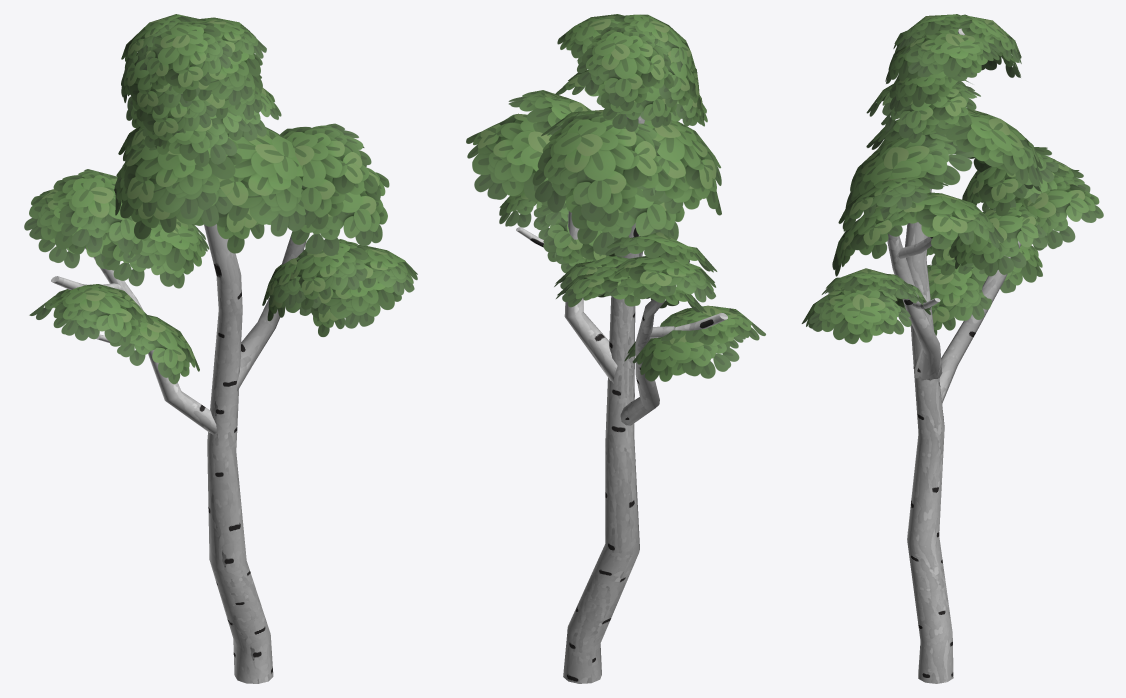
The model's file is Birch_7.glb.
The picture shows the model from 3 angles, left to right: view 1: azimuth 30°, elevation 25°; view 2: azimuth 150°, elevation 25°; view 3: azimuth 270°, elevation 25°; orthographic projection. The views are drawn at different scales.
Visible parts, largest first — view 1: Birch_7; view 2: Birch_7; view 3: Birch_7.
Boxes of the visible parts, x1,y1,x2,y2 form: Birch_7: (24, 14, 417, 683); Birch_7: (466, 14, 765, 683); Birch_7: (801, 14, 1103, 683).
Bounding box in the file's own units: 4.88 × 9.92 × 4.46.
2 materials, 2 textured.
